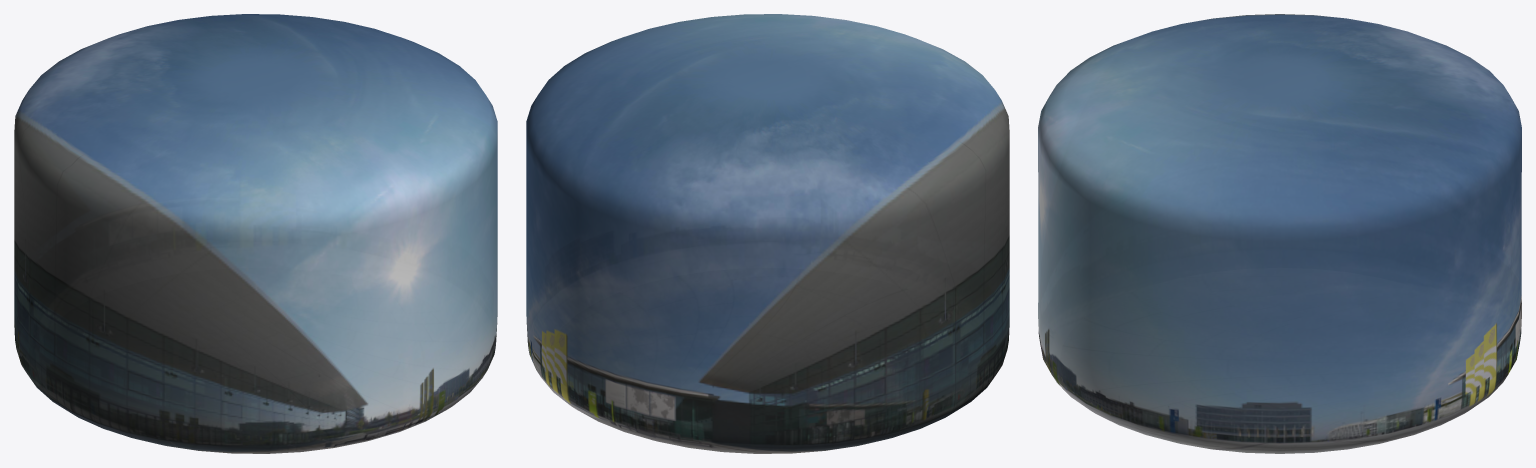
File: Stuttgart.DAE
3 renders of one model, left to right at view 1: azimuth 30°, elevation 25°; view 2: azimuth 150°, elevation 25°; view 3: azimuth 270°, elevation 25°, orthographic.
Visible parts, largest first — view 1: Dome; view 2: Dome; view 3: Dome.
Boxes of the visible parts, x1,y1,x2,y2 form: Dome: (14,14,497,453); Dome: (526,14,1009,453); Dome: (1038,14,1521,453).
Size of the model in its own units: 18.69 by 18.69 by 12.07.
1 material, 1 textured.
